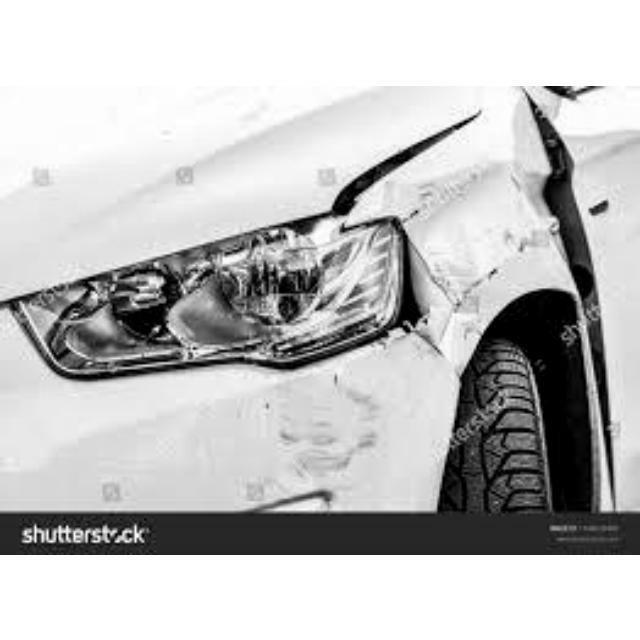Headlight-damage: (5, 195, 408, 385)
fender-dent: (399, 86, 569, 445)
front-bumper-dent: (0, 325, 510, 517)
